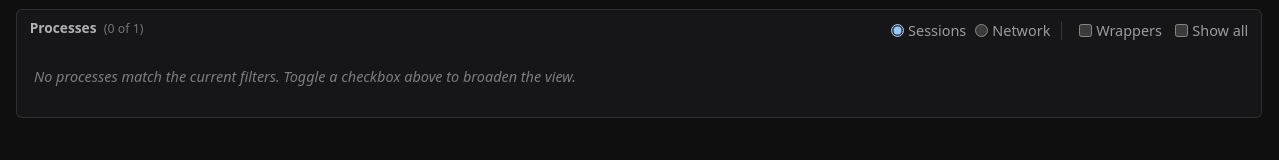
Test: ProcessesPanel › renders a port-binding process row with key columns in Network view
Click the radio button labelled "Network": (981, 31) 975,24 -> 988,37
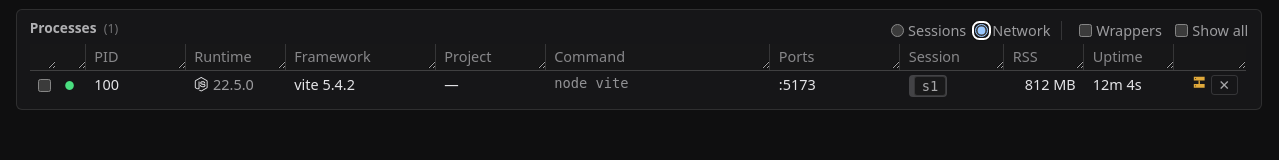
Now the text "100" is shown, box 86,70 -> 186,101
Now the text "node vite" is shown, box 554,75 -> 629,91
Now the text "vite 5.4.2" is shown, box 286,70 -> 436,101
